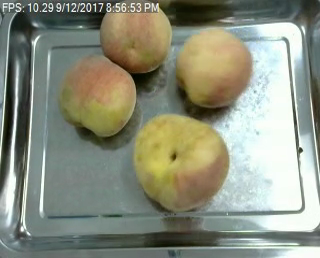Peach: (134, 112, 228, 211), (59, 55, 136, 138), (175, 26, 253, 107), (100, 0, 172, 75)
